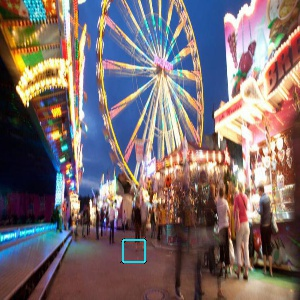square: (121, 238, 147, 263)
